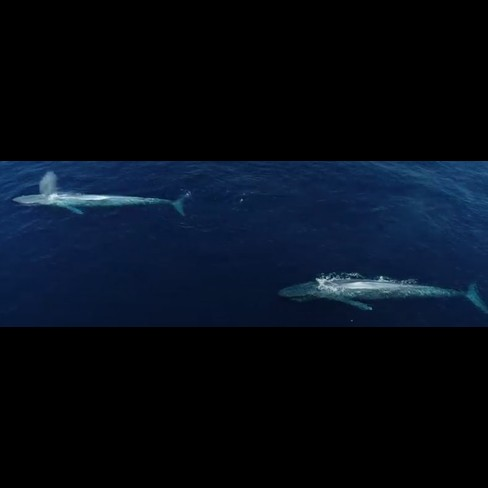bluewhale: (276, 274, 487, 317), (8, 187, 190, 219)
